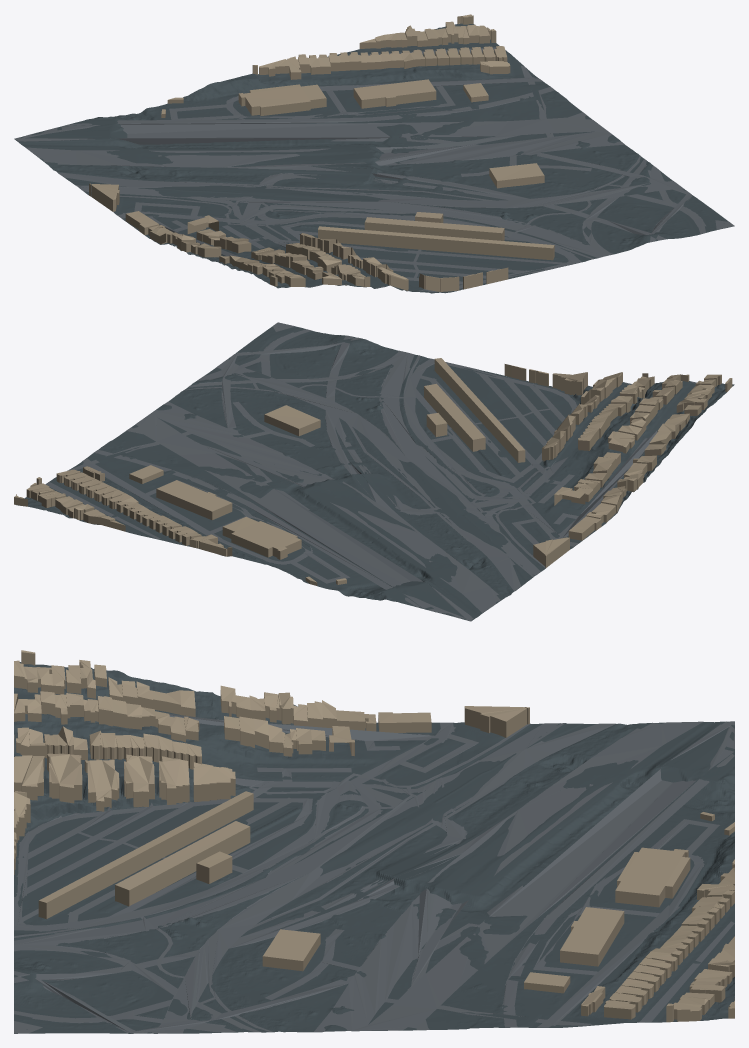
The model's file is epsg26910-1437-10876.lod0.glb.
The picture shows the model from 3 angles, top to bottom: view 1: azimuth 30°, elevation 25°; view 2: azimuth 150°, elevation 25°; view 3: azimuth 270°, elevation 25°; orthographic projection. The views are drawn at different scales.
Parts seen in each view (by area): view 1: epsg26910-1437-10876-lod0; view 2: epsg26910-1437-10876-lod0; view 3: epsg26910-1437-10876-lod0.
Boxes of the visible parts, x1,y1,x2,y2 form: epsg26910-1437-10876-lod0: [14, 14, 734, 293]; epsg26910-1437-10876-lod0: [14, 322, 734, 621]; epsg26910-1437-10876-lod0: [14, 650, 734, 1033].
Size of the model in its own units: 384 by 46.9 by 384.
